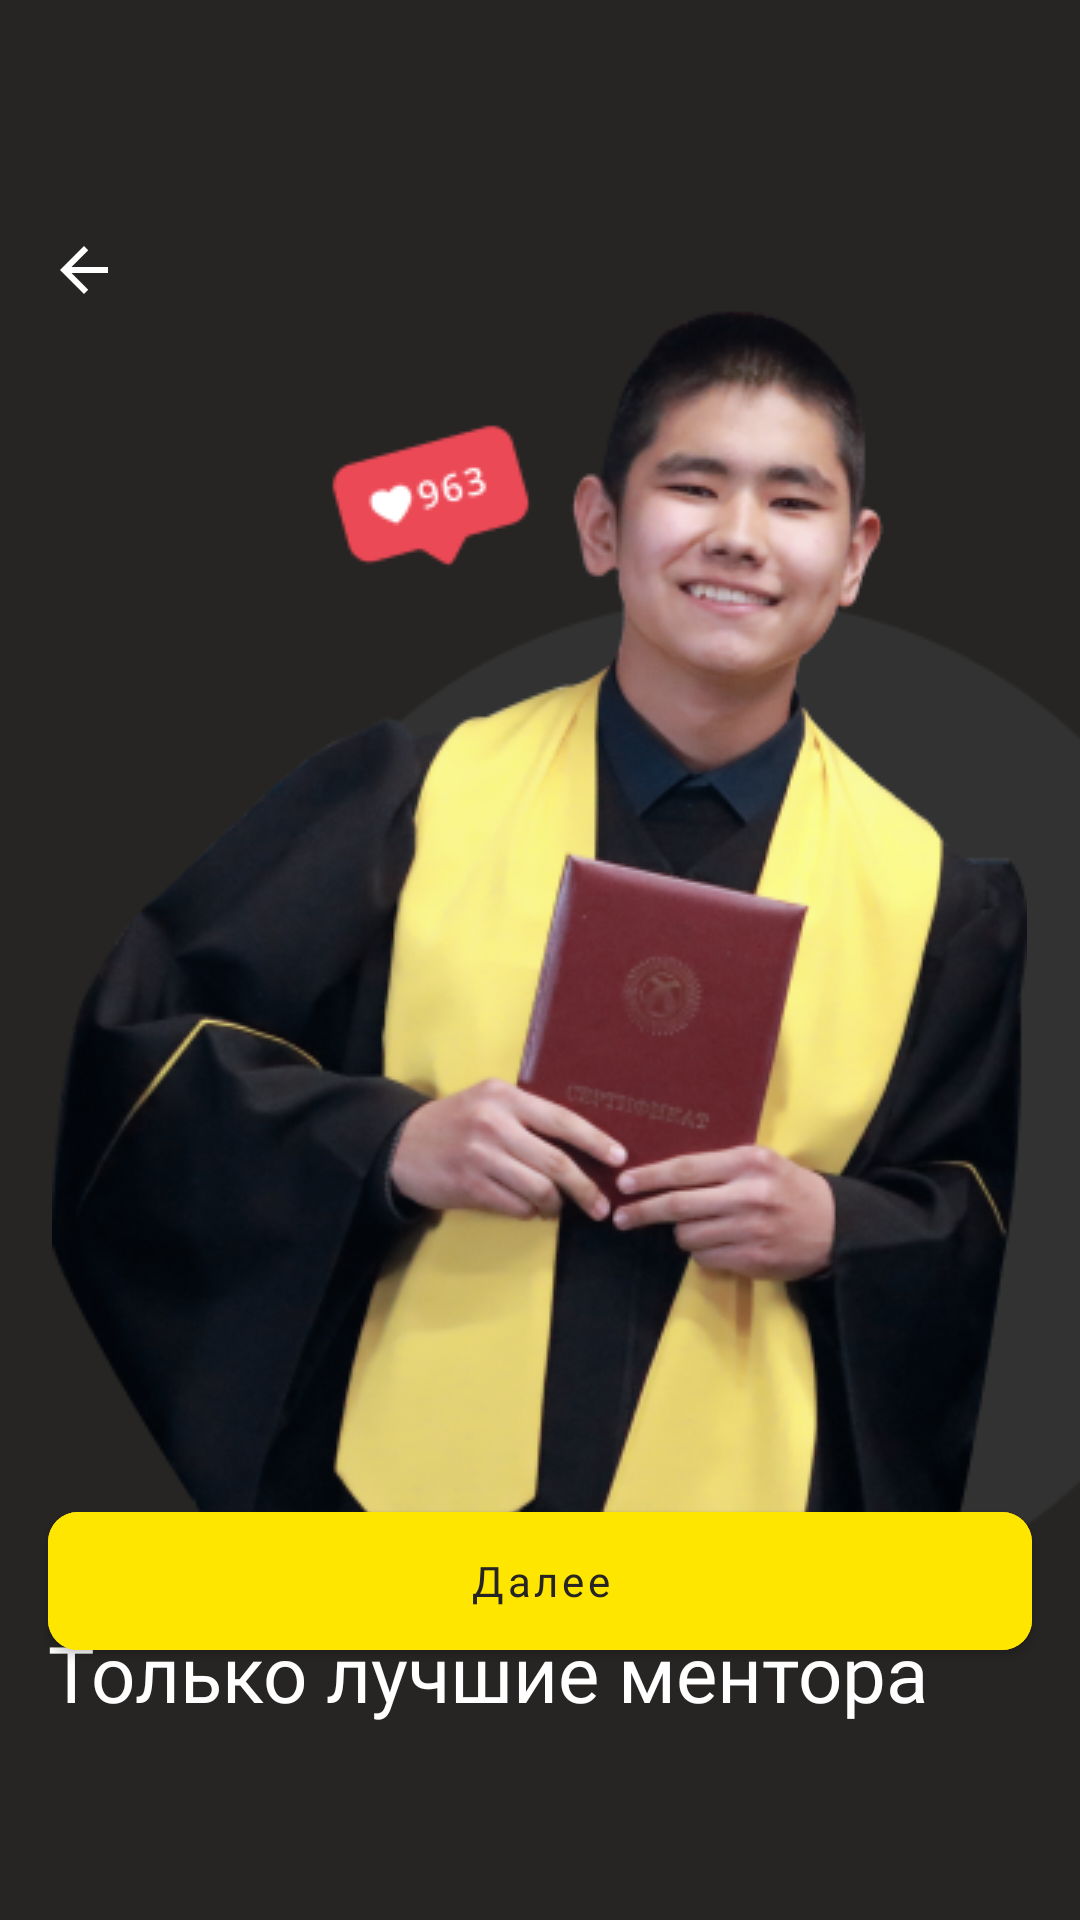

Where icons sit on this 1080 × 1920 app screen, as {"left": x1, "top": y1, "right": x2, "bottom": y2}:
arrow left: {"left": 60, "top": 246, "right": 108, "bottom": 294}
board like: {"left": 332, "top": 425, "right": 529, "bottom": 565}
